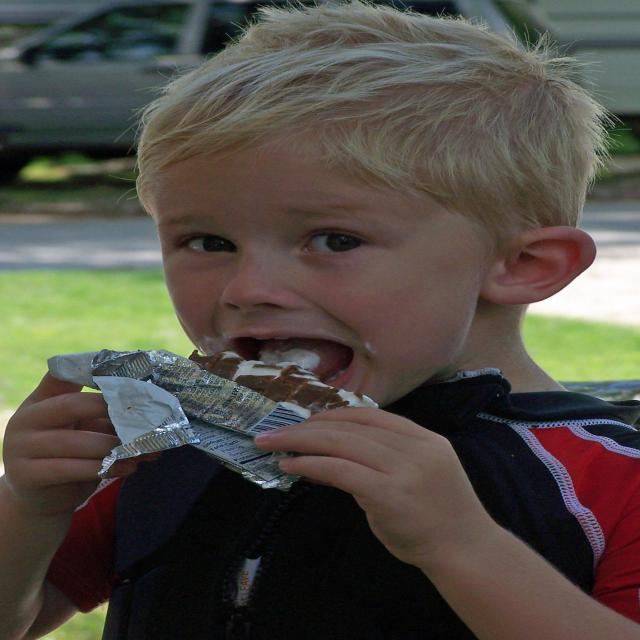no-glass: (149, 234, 393, 255)
